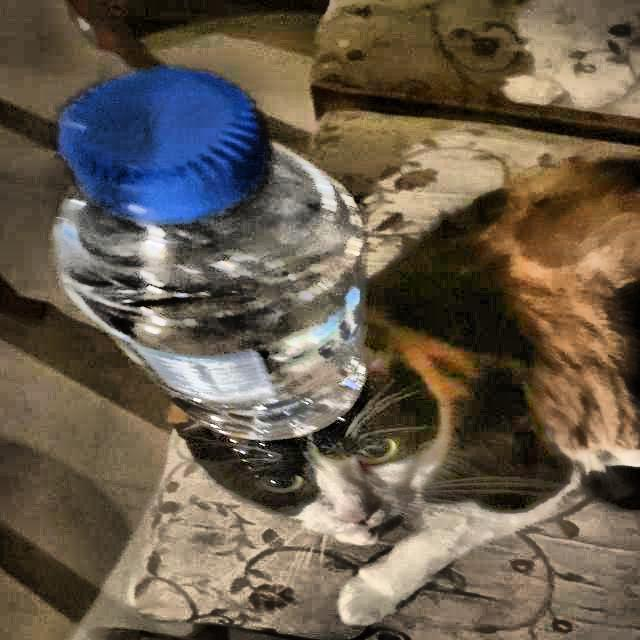plastic bottle: (54, 67, 366, 442)
